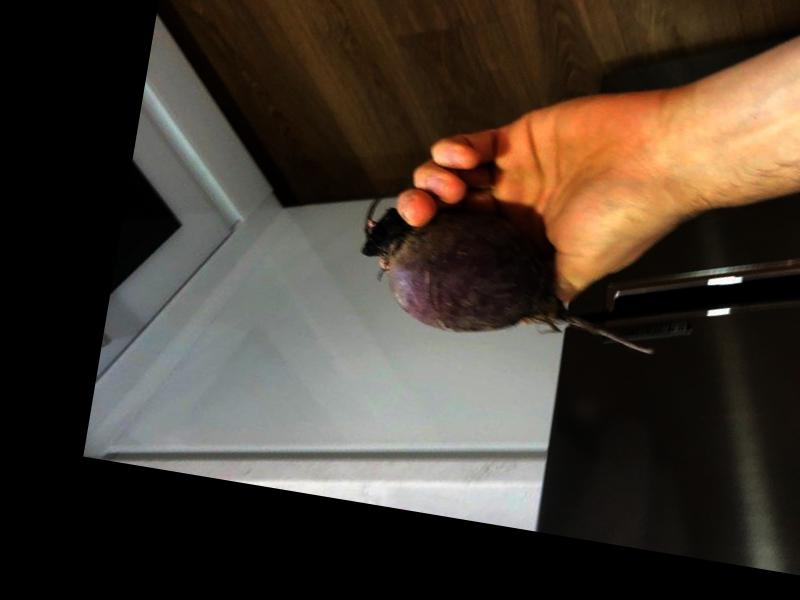Beet: (348, 194, 670, 363)
